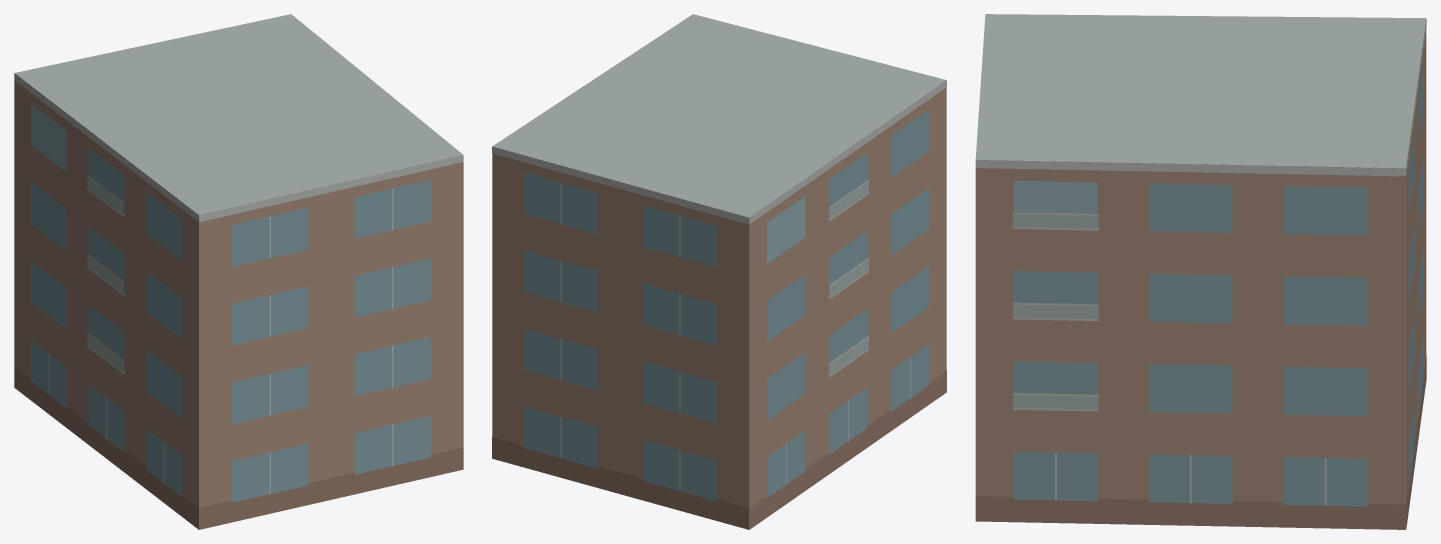
The model's file is survey-upis-32747997.glb.
The picture shows the model from 3 angles, left to right: view 1: azimuth 30°, elevation 25°; view 2: azimuth 150°, elevation 25°; view 3: azimuth 270°, elevation 25°; orthographic projection. The views are drawn at different scales.
Visible parts, largest first — view 1: survey-upis-32747997.tmp; view 2: survey-upis-32747997.tmp; view 3: survey-upis-32747997.tmp.
Part boxes in pixels (<box>): survey-upis-32747997.tmp: <box>14,14,463,529</box>; survey-upis-32747997.tmp: <box>492,14,946,529</box>; survey-upis-32747997.tmp: <box>975,14,1426,529</box>.
Bounding box in the file's own units: 9.91 × 10.82 × 12.24.
